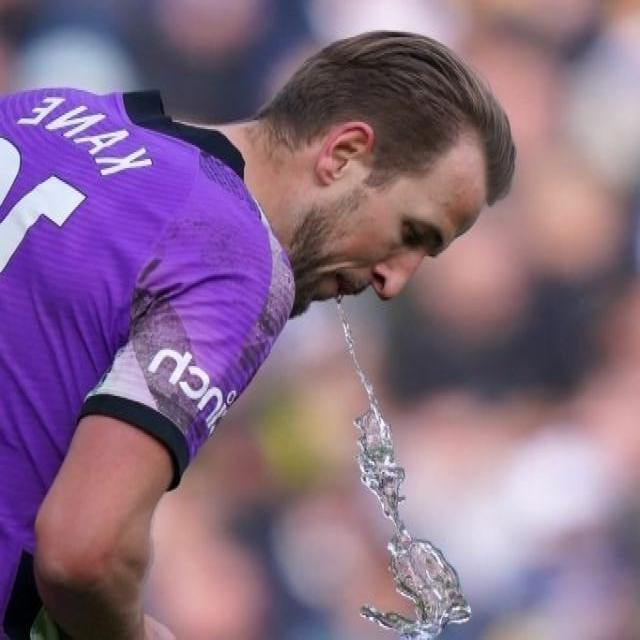Spitting: (264, 26, 510, 534)
